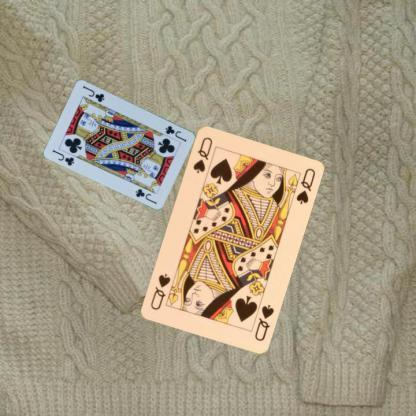Jc: (50, 147, 76, 167), (163, 123, 188, 143)
Qs: (190, 134, 214, 175), (252, 302, 275, 342)
